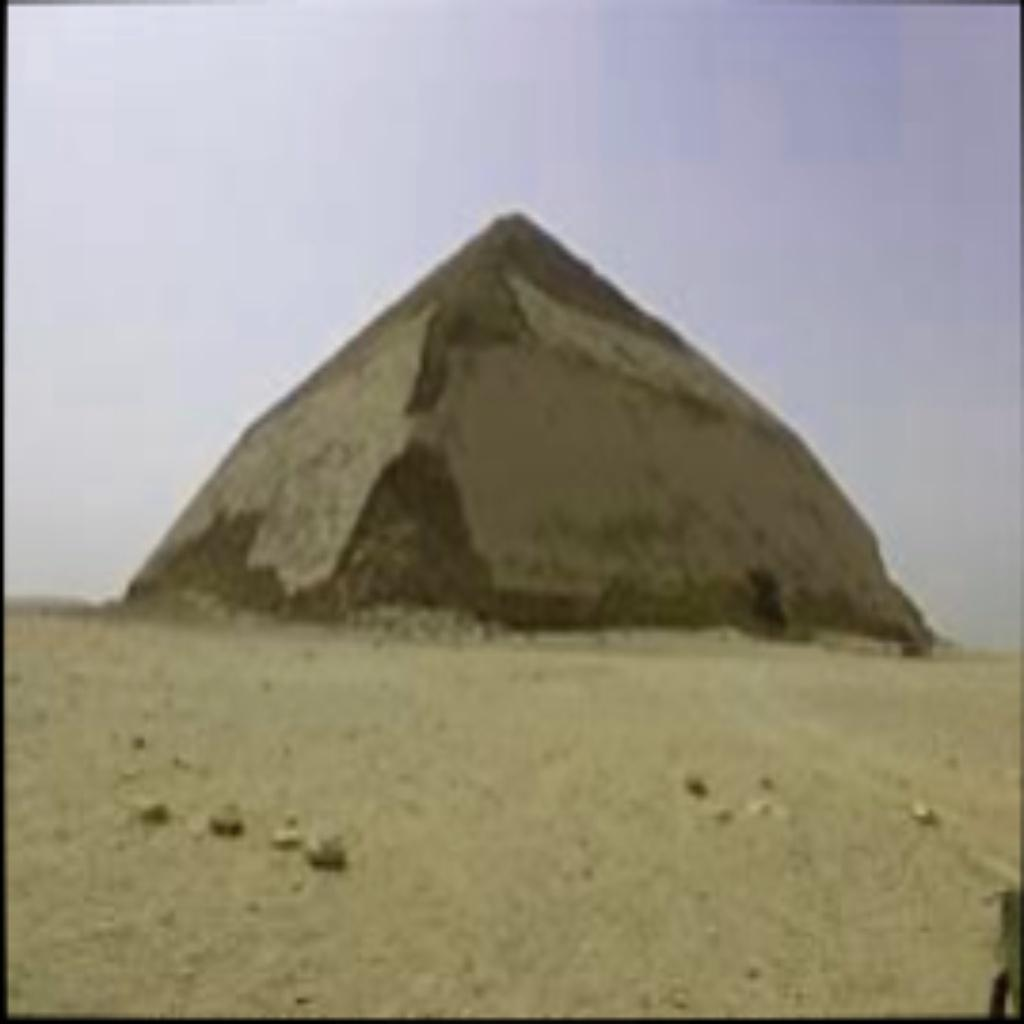Bent Pyramid of King Sneferu: (118, 199, 948, 647)
